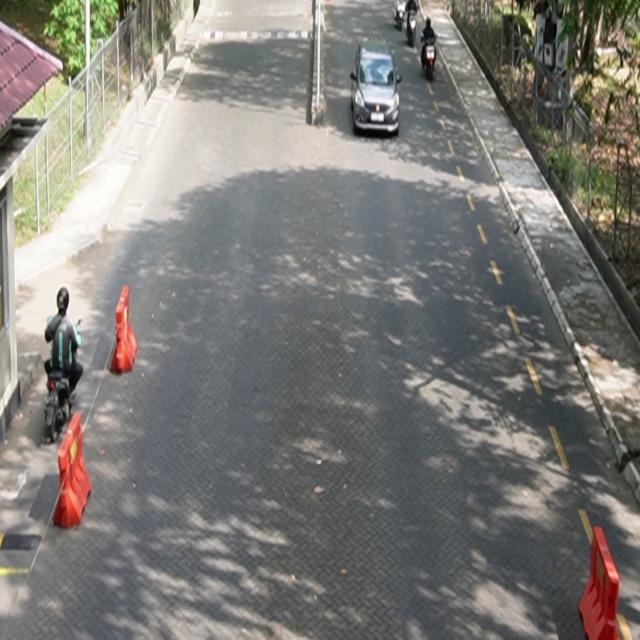car: (350, 41, 403, 137)
